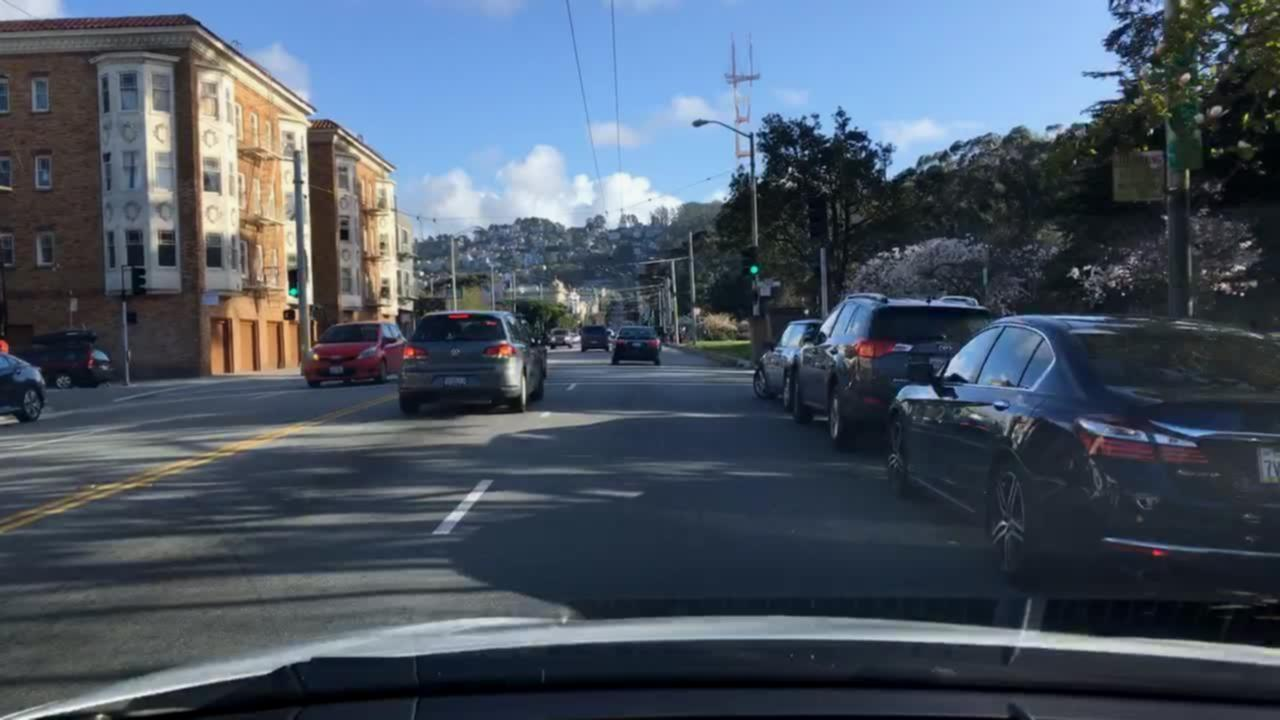Volkswagen: (446, 345, 465, 360)
